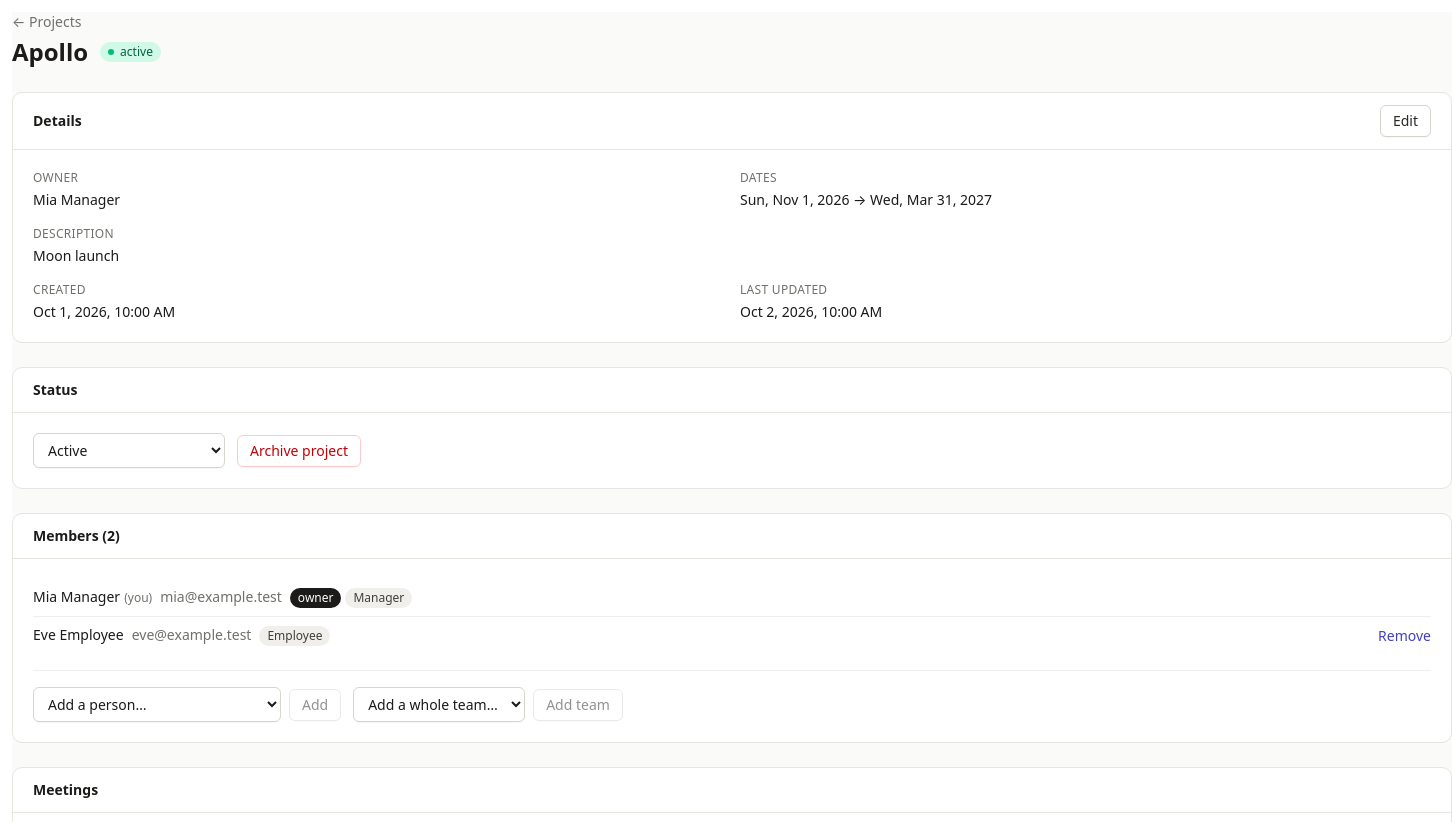
it: Project detail › edits the project details
Click the button "Edit": coordinates (1405, 121) [1380,105,1431,137]
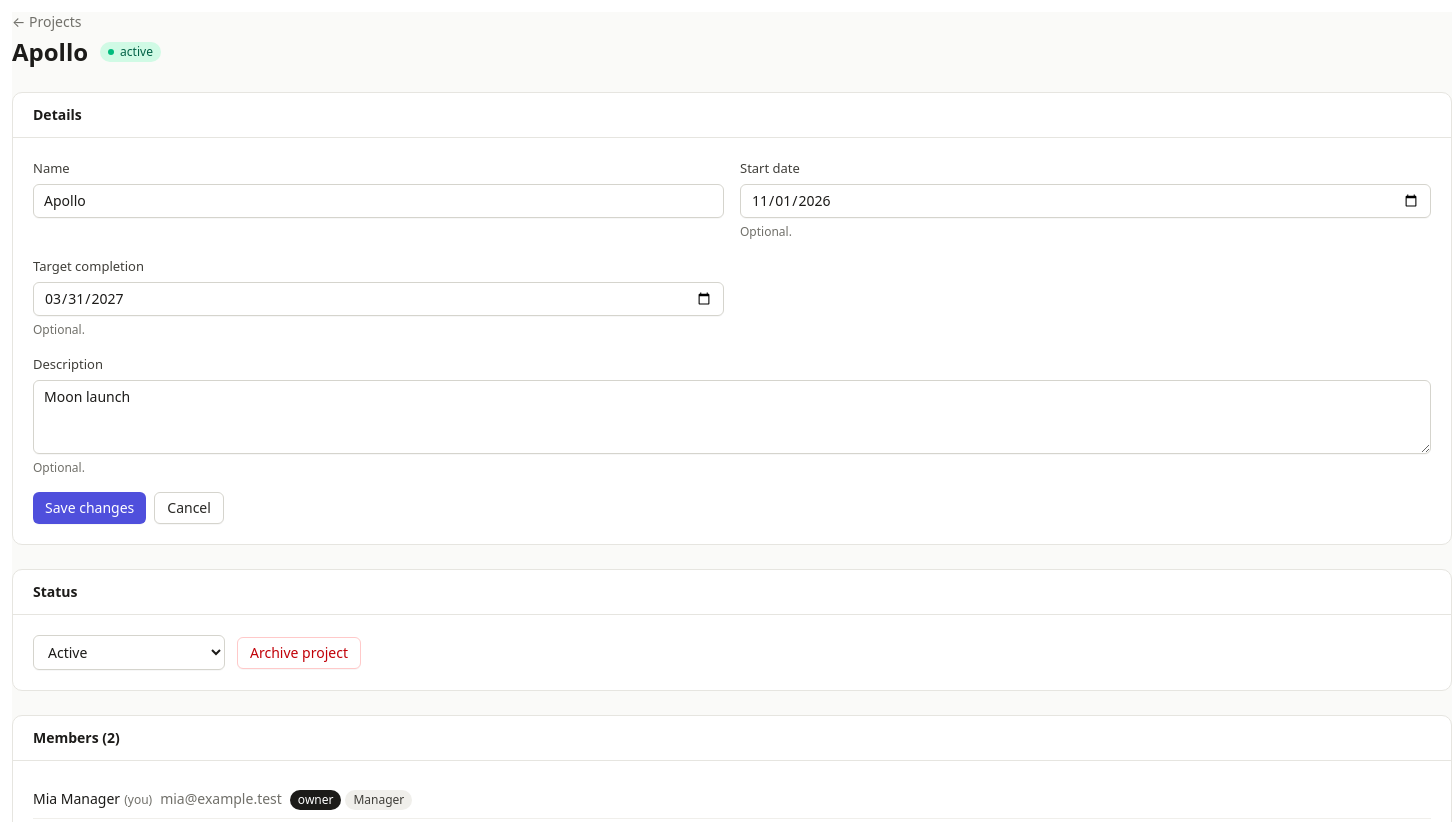
Replace the text in the text box labelled "Description" with "Updated text": coordinates (732, 417) [33,380,1431,454]
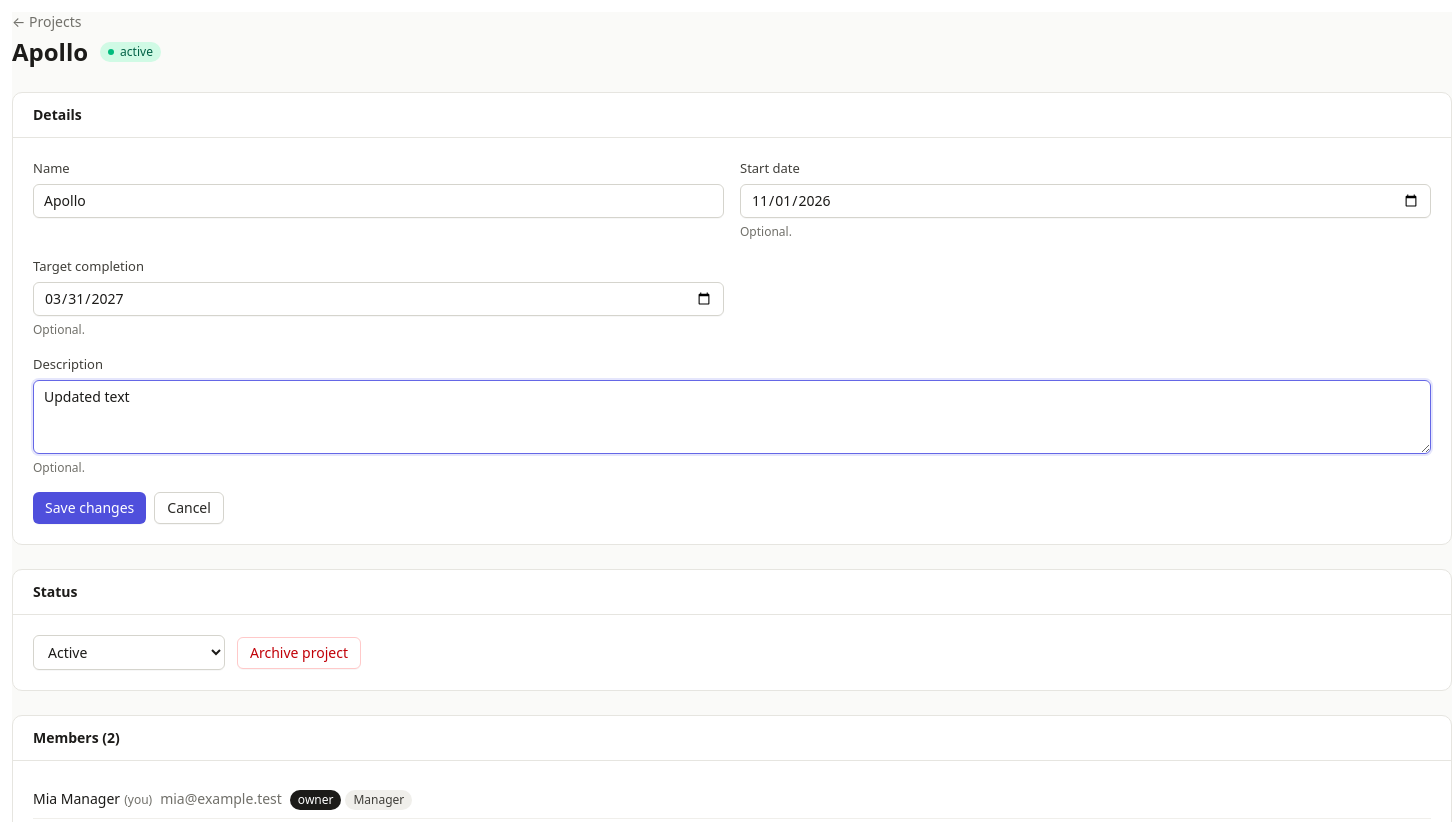
Click the button "Save changes": coordinates (90, 508) [33,492,146,524]
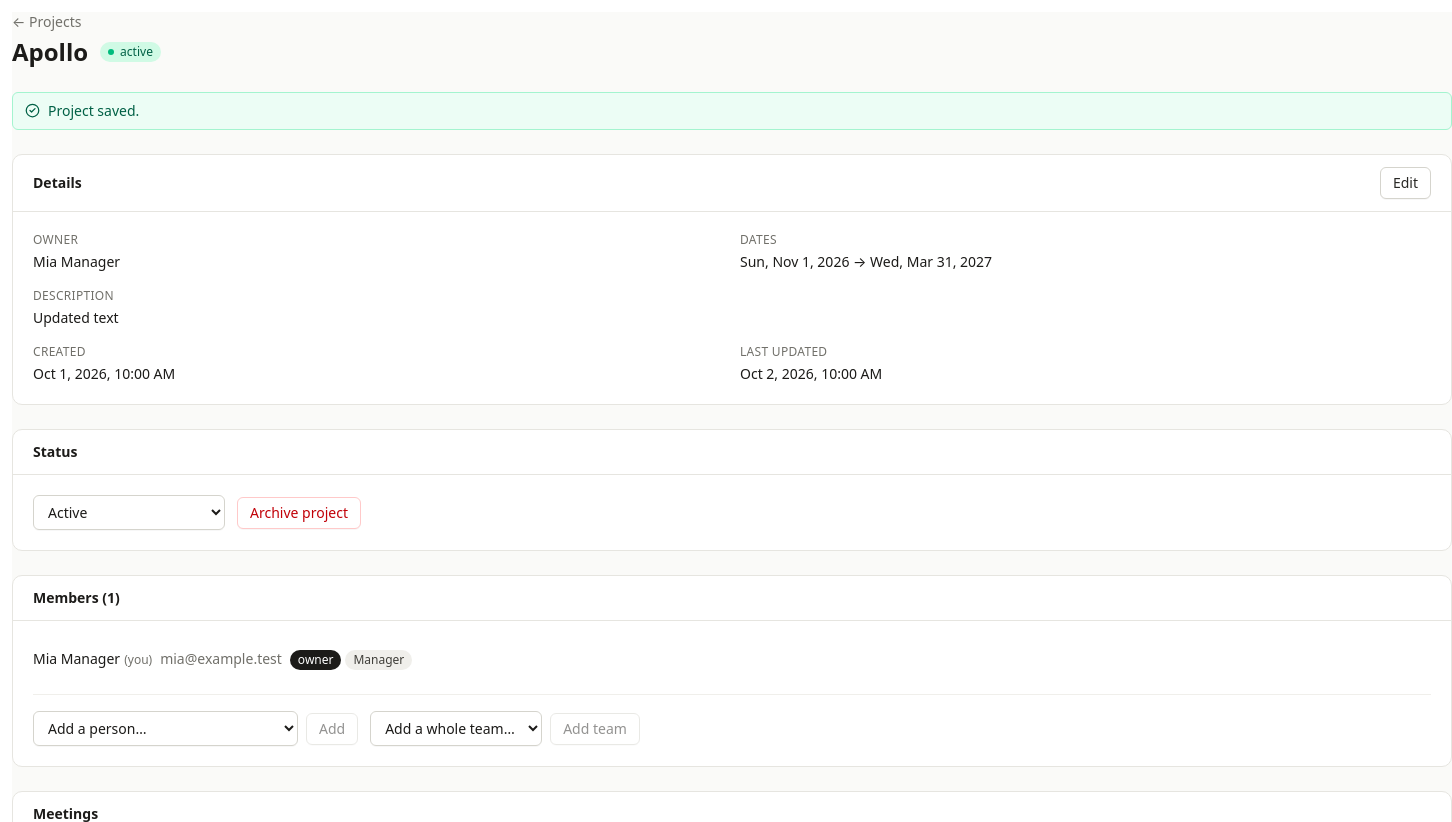
Expected: the text "Project saved." is shown, [48,101,139,120]
